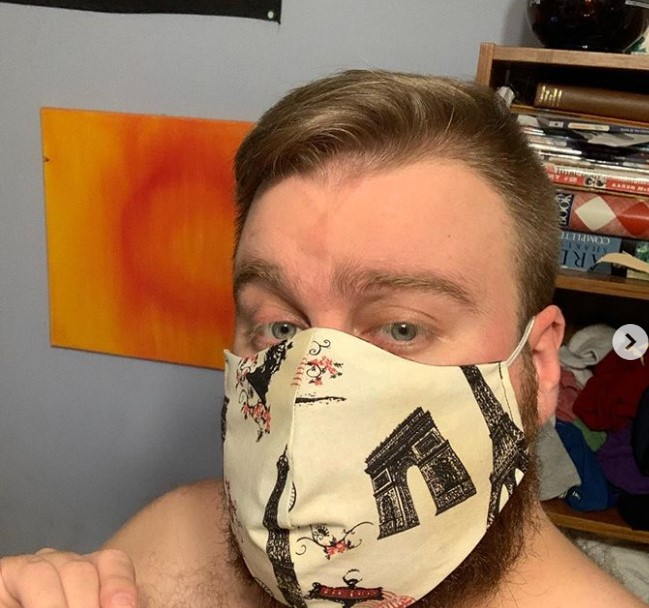face_with_mask: (216, 69, 569, 602)
